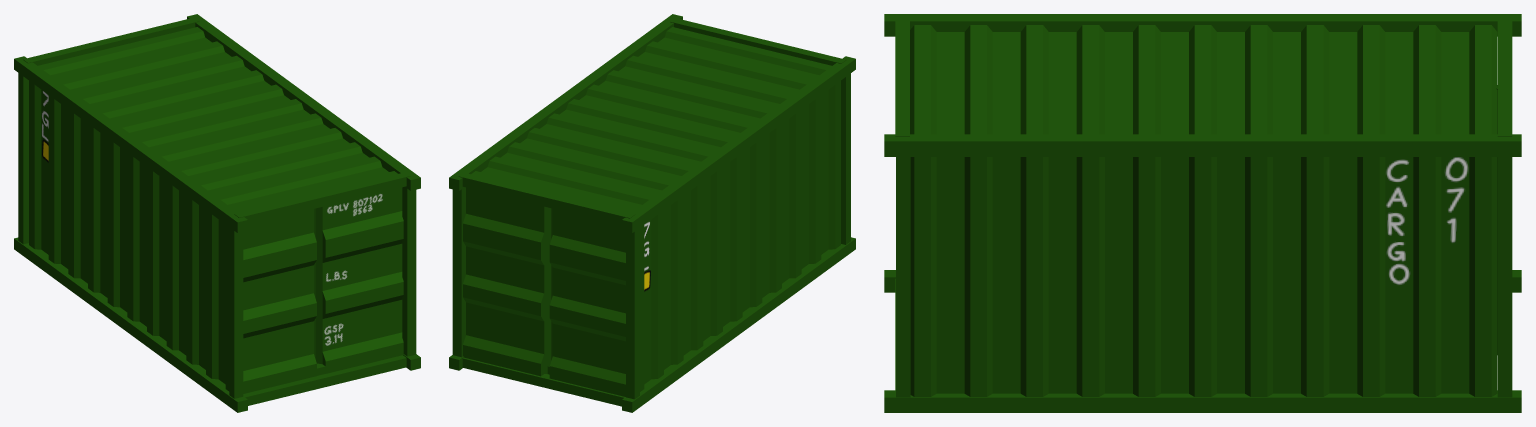
Rendered from container.fbx.
3 views of the same model, side by side, from view 1: azimuth 30°, elevation 25°; view 2: azimuth 150°, elevation 25°; view 3: azimuth 270°, elevation 25° (orthographic). The views are drawn at different scales.
Visible parts, largest first — view 1: pCube7; view 2: pCube7; view 3: pCube7.
Boxes of the visible parts, box(x1,y1,x2,y2) form: pCube7: box(14, 14, 420, 412); pCube7: box(449, 14, 855, 412); pCube7: box(884, 14, 1521, 412).
Bounding box in the file's own units: 0.6158 × 0.6223 × 1.3.
1 material, 1 textured.
